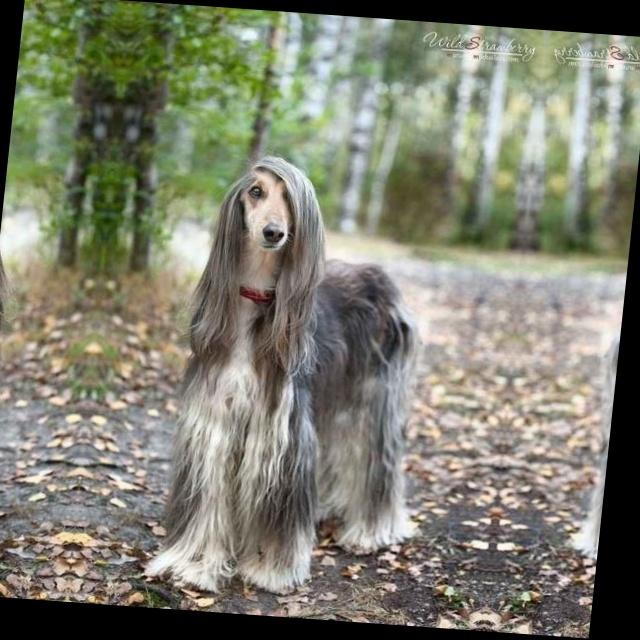dog: (140, 137, 462, 600), (556, 167, 638, 612), (0, 125, 44, 570)
